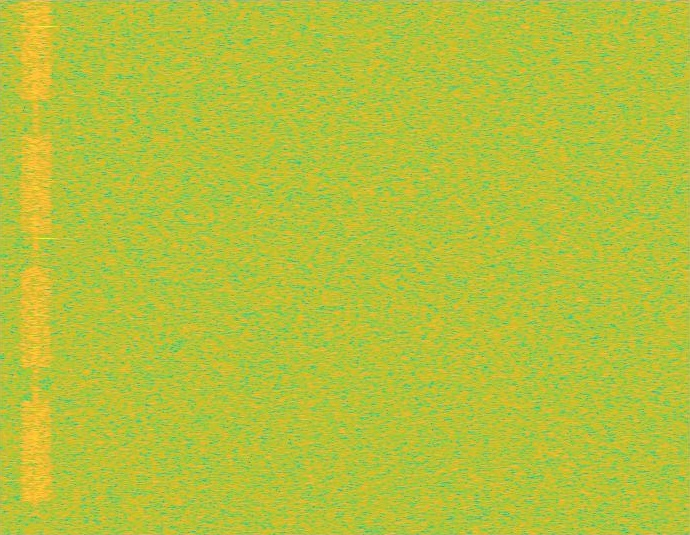5G: (19, 0, 53, 534)
DSSS: (34, 0, 38, 534)
Radar: (39, 0, 53, 534)
